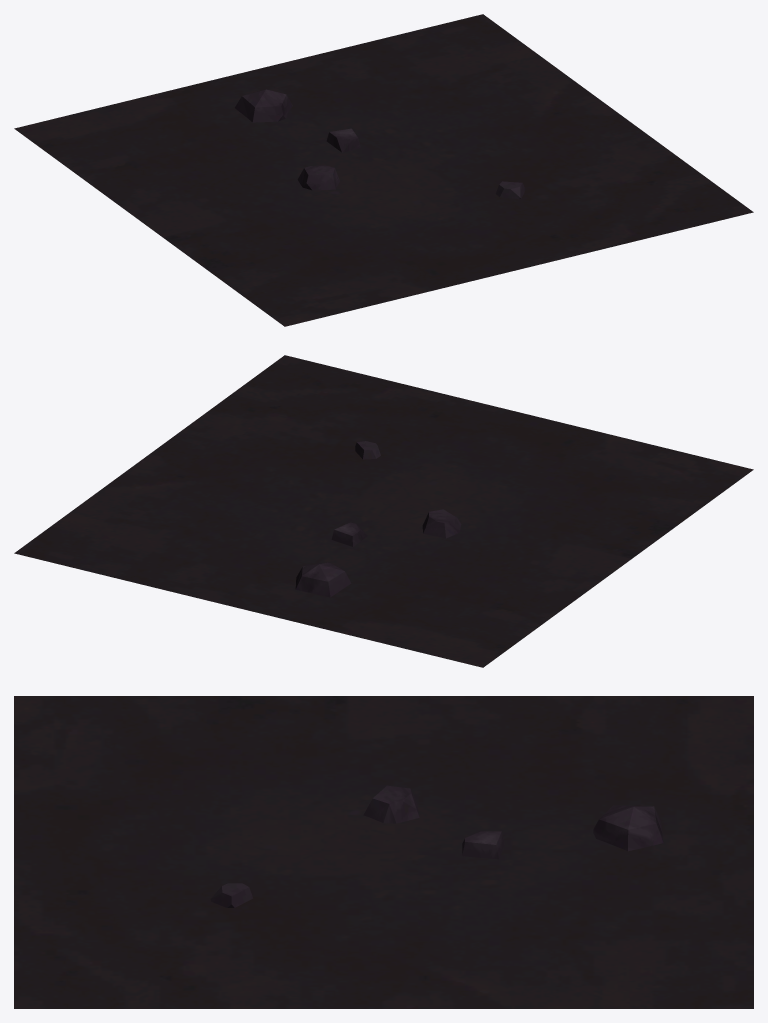
Rendered from cave_rubble_07.fbx.
3 renders of one model, top to bottom at view 1: azimuth 30°, elevation 25°; view 2: azimuth 150°, elevation 25°; view 3: azimuth 270°, elevation 25°, orthographic. The views are drawn at different scales.
Parts seen in each view (by area): view 1: cave_rubble_07-0; view 2: cave_rubble_07-0; view 3: cave_rubble_07-0.
Boxes of the visible parts, x1,y1,x2,y2 form: cave_rubble_07-0: (14,14,753,326); cave_rubble_07-0: (14,355,753,667); cave_rubble_07-0: (14,696,753,1008).
Size of the model in its own units: 4 by 0.217 by 4.
